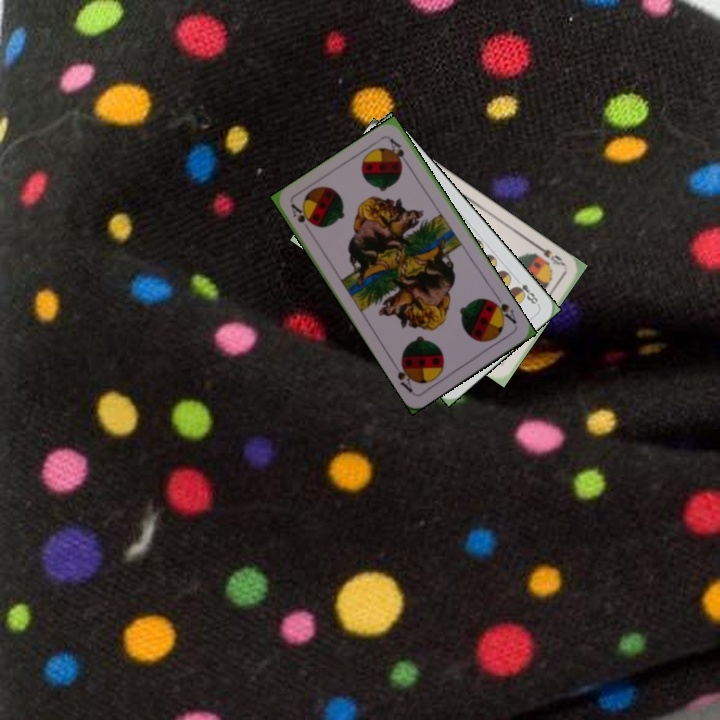E8: (510, 274, 541, 308)
SA: (486, 291, 519, 327), (287, 199, 316, 229)
SO: (532, 241, 568, 269)
